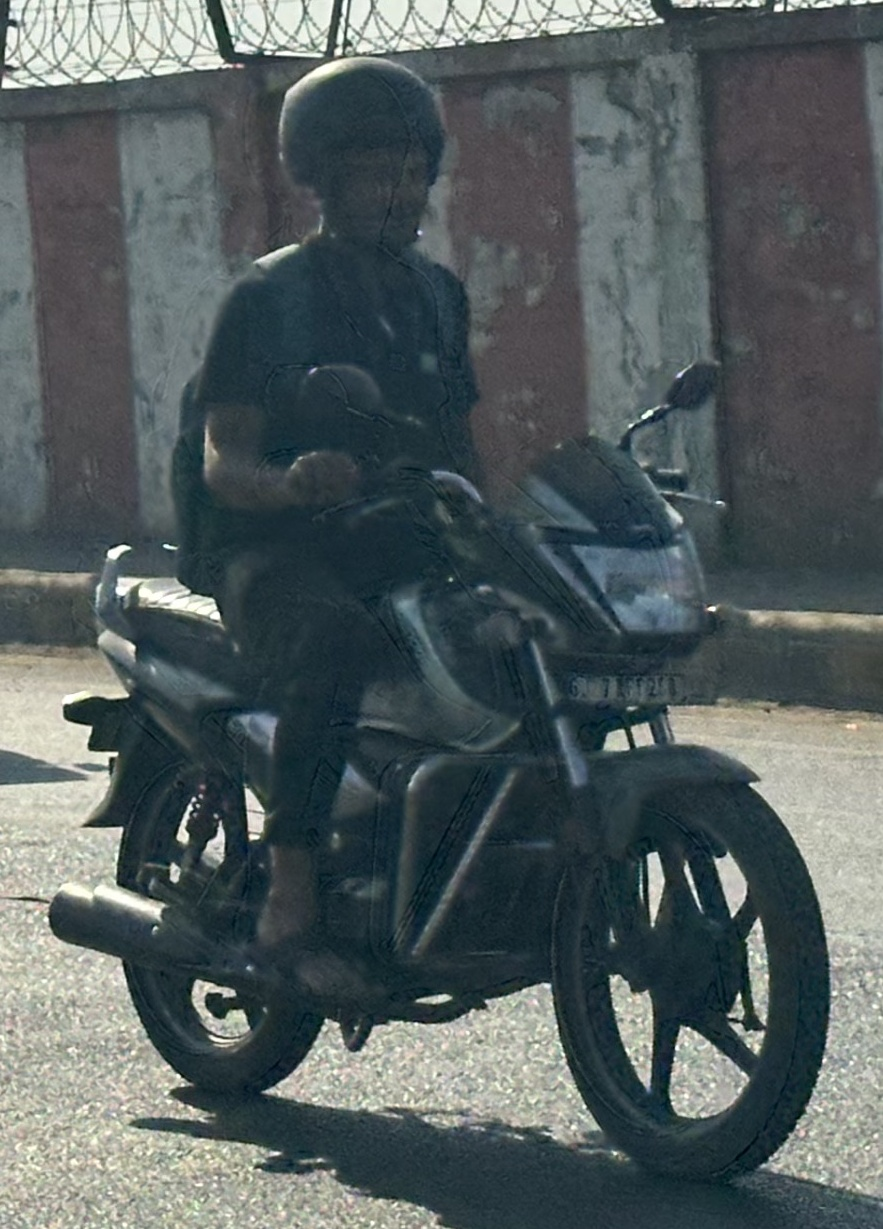BikeWithRider: (64, 52, 843, 1185)
Helmet: (274, 52, 460, 267)
